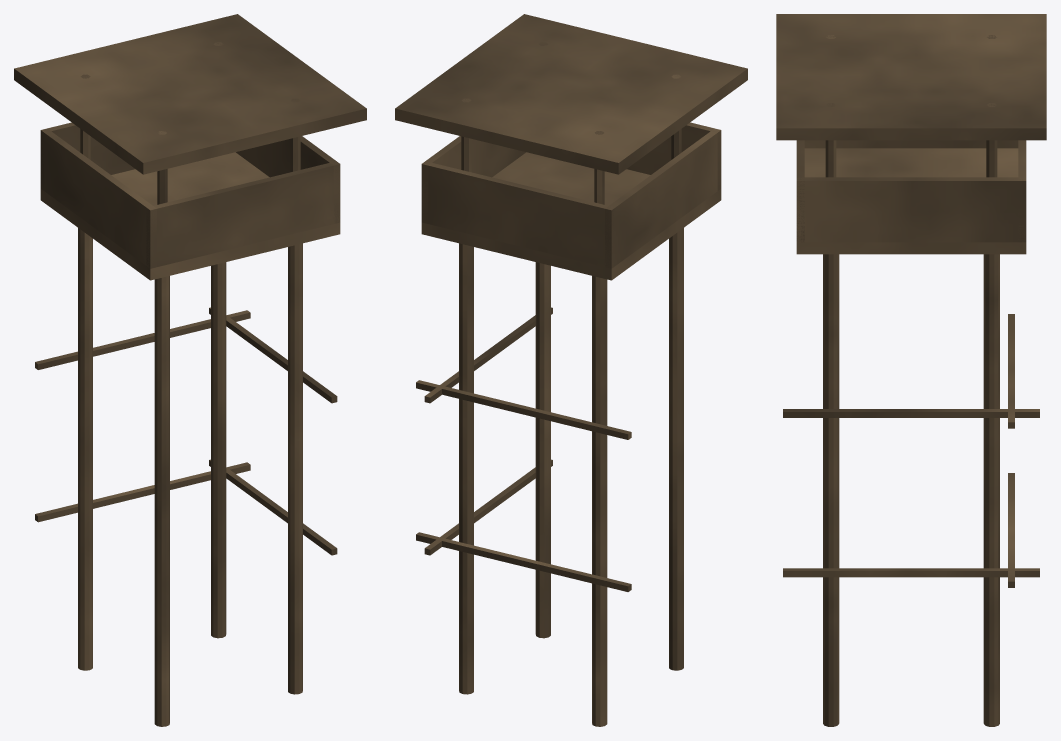
Rendered from watchtower.glb.
3 renders of one model, left to right at view 1: azimuth 30°, elevation 25°; view 2: azimuth 150°, elevation 25°; view 3: azimuth 270°, elevation 25°, orthographic. The views are drawn at different scales.
Parts seen in each view (by area): view 1: watchtower; view 2: watchtower; view 3: watchtower.
Part boxes in pixels (x1,y1,x2,y2): watchtower: (14, 14, 366, 726); watchtower: (395, 14, 747, 726); watchtower: (776, 14, 1046, 726).
Bounding box in the file's own units: 2 × 5.05 × 2.
1 material, 1 textured.
